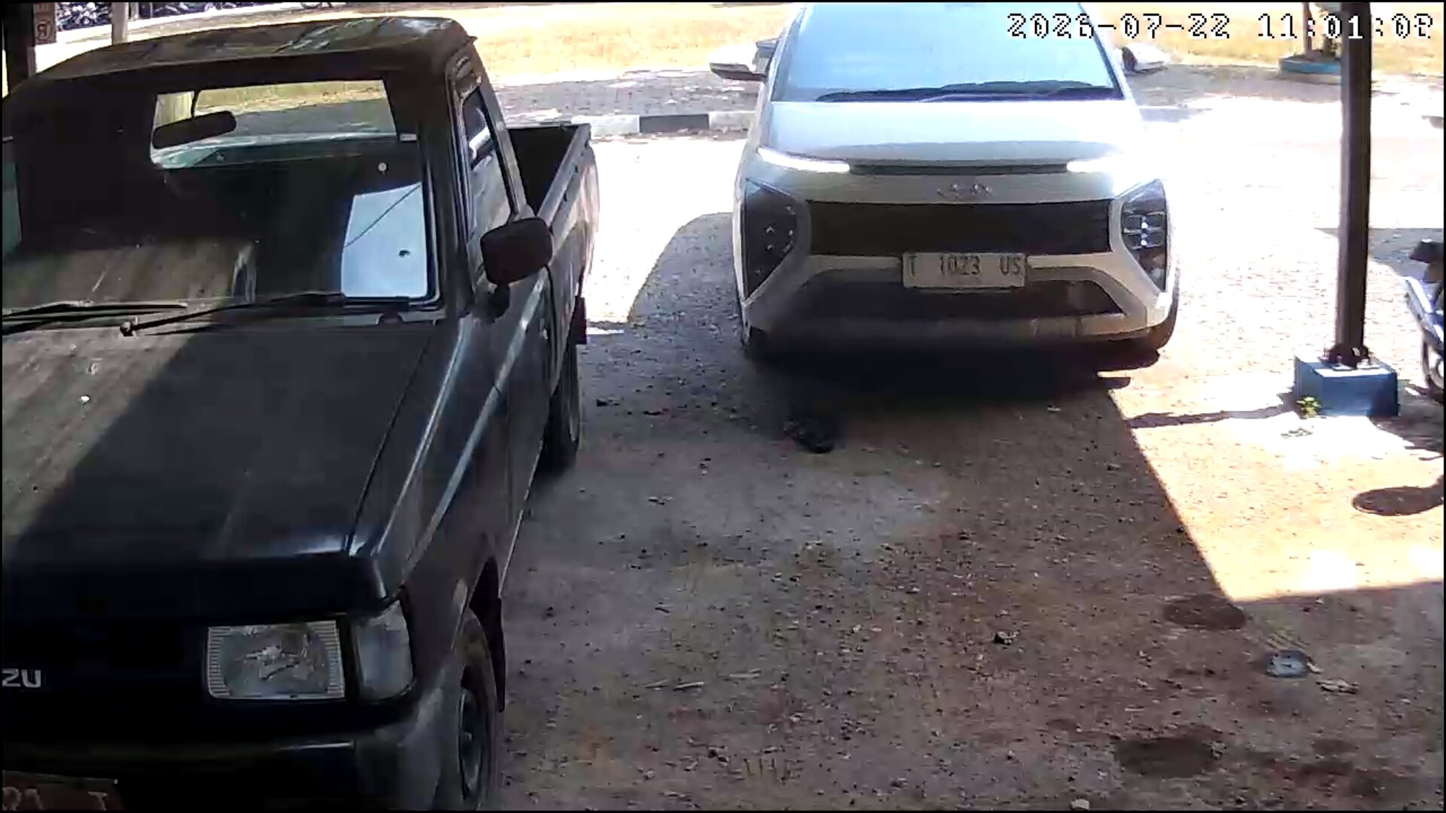plat nomor: (901, 253, 1027, 290)
